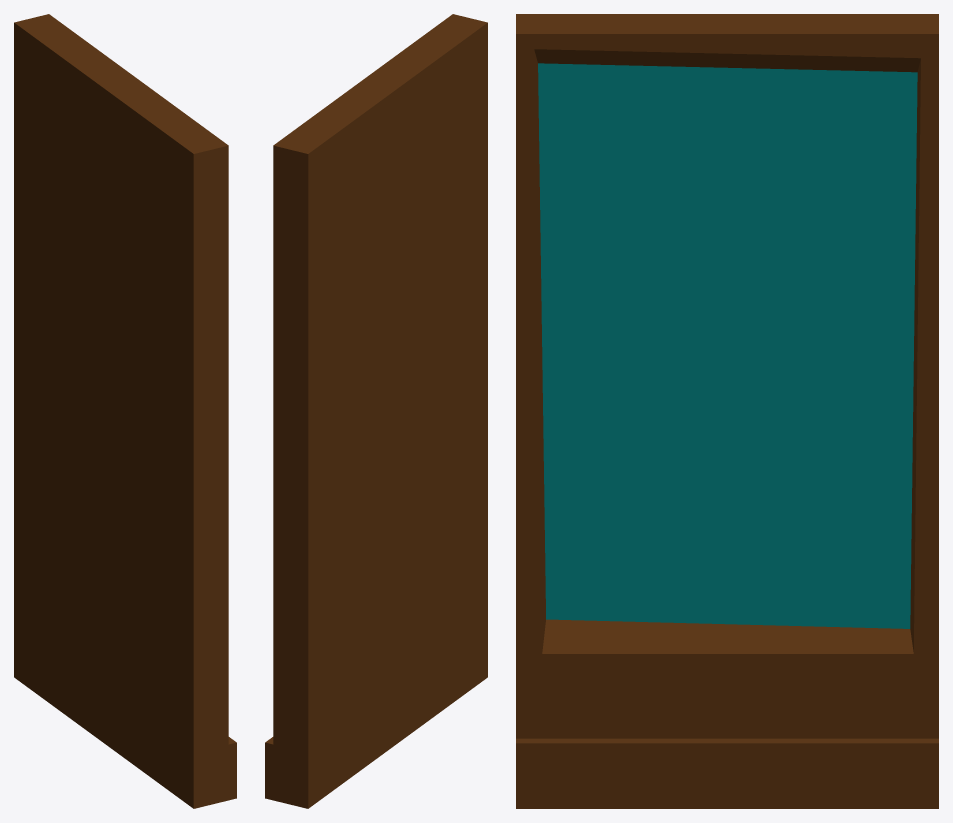
The model's file is BakerWindow1.fbx.
3 renders of one model, left to right at view 1: azimuth 30°, elevation 25°; view 2: azimuth 150°, elevation 25°; view 3: azimuth 270°, elevation 25°, orthographic. The views are drawn at different scales.
Visible parts, largest first — view 1: Cube.007; view 2: Cube.007; view 3: Cube.007.
Part boxes in pixels (x1,y1,x2,y2): Cube.007: (14,14,236,808); Cube.007: (265,14,487,808); Cube.007: (516,14,938,808).
Size of the model in its own units: 19.68 by 142 by 286.
